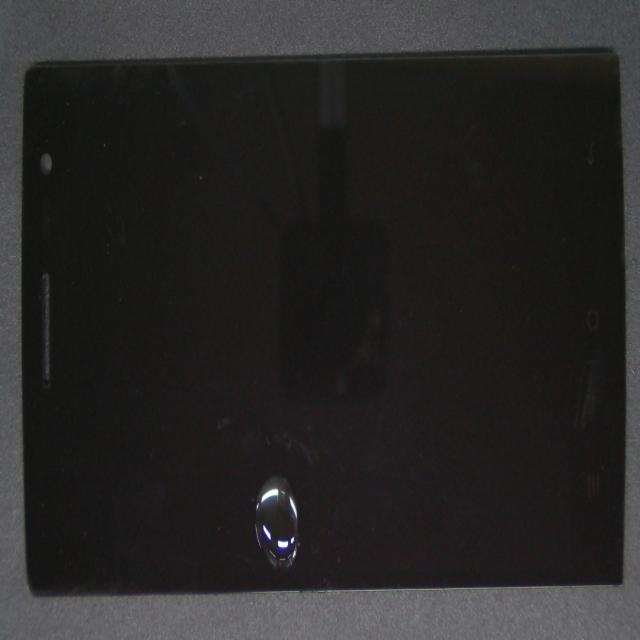oil: (168, 285, 466, 640)
